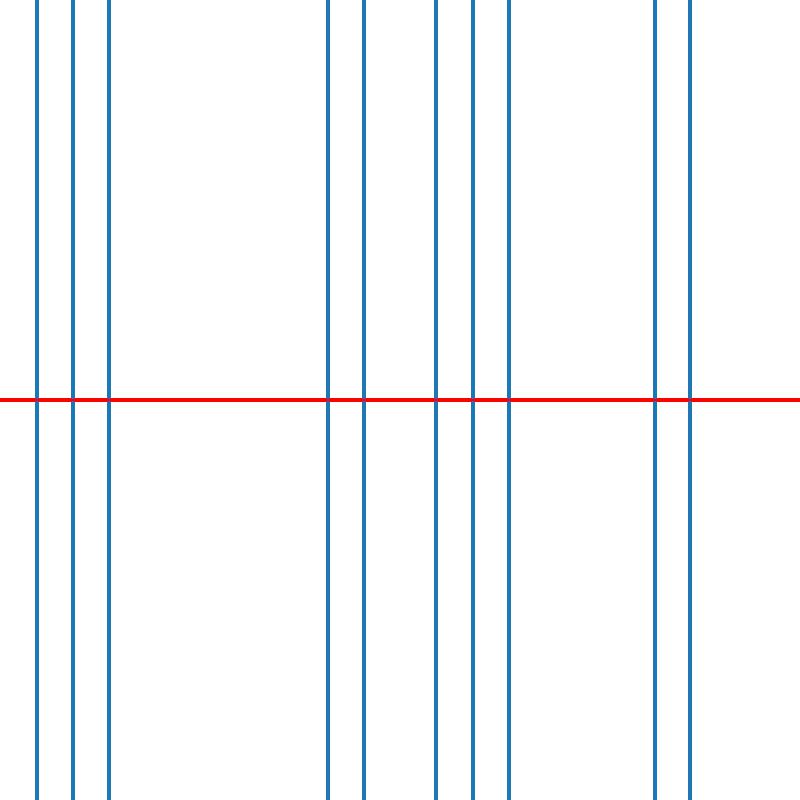root: (32, 396, 40, 404), (432, 396, 440, 404), (650, 396, 658, 404), (69, 396, 76, 404), (469, 396, 476, 404), (360, 396, 367, 404), (505, 396, 512, 404), (323, 396, 330, 404), (105, 396, 112, 404), (687, 396, 694, 404)
